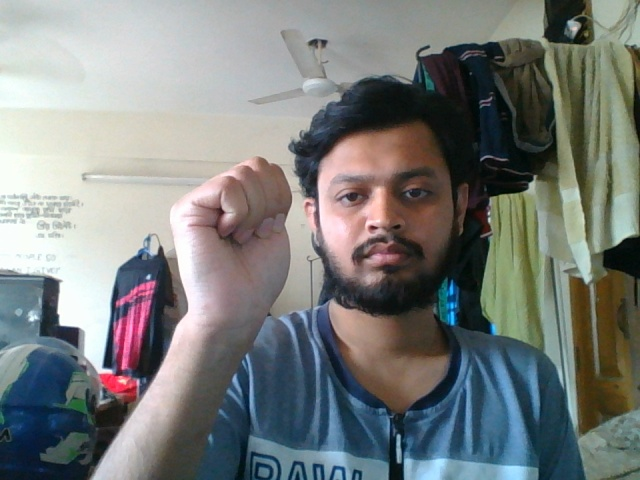to: (157, 150, 305, 355)
